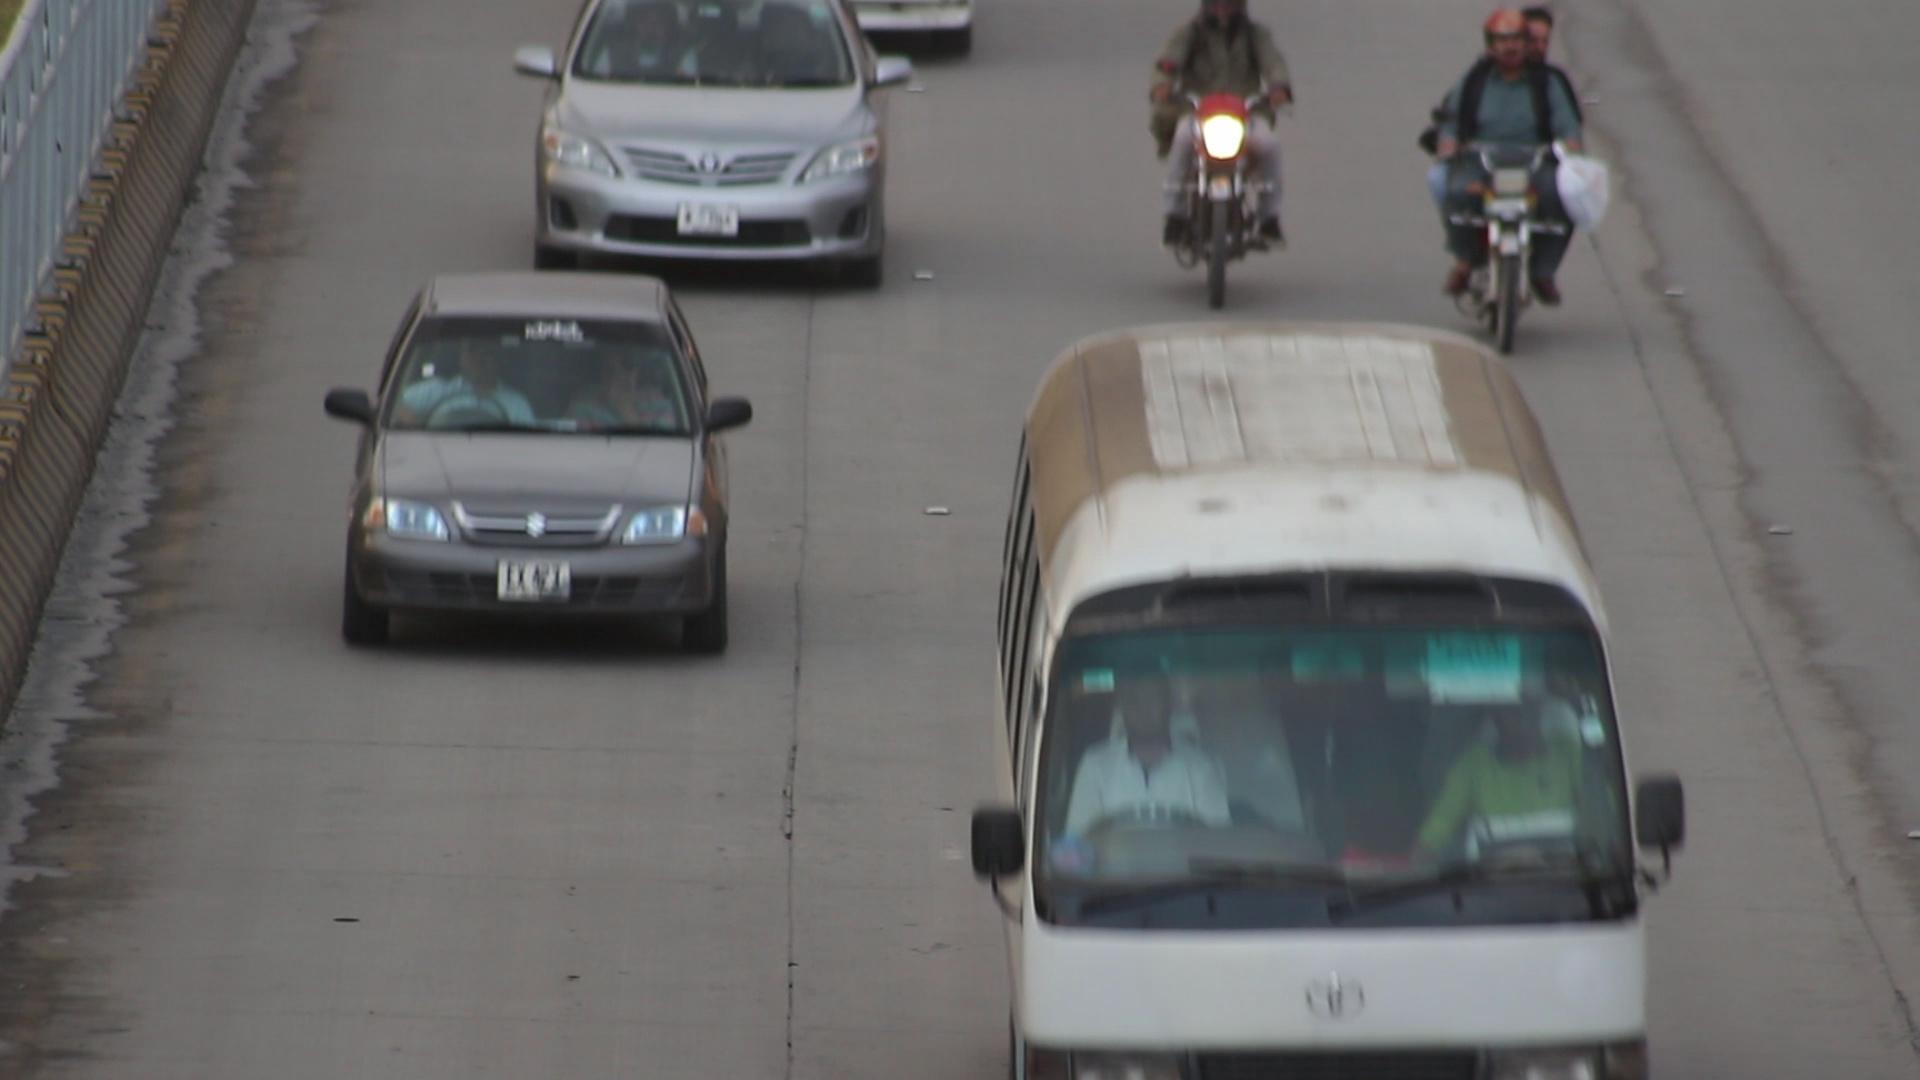windshield: (1040, 567, 1650, 934), (377, 310, 691, 440)
